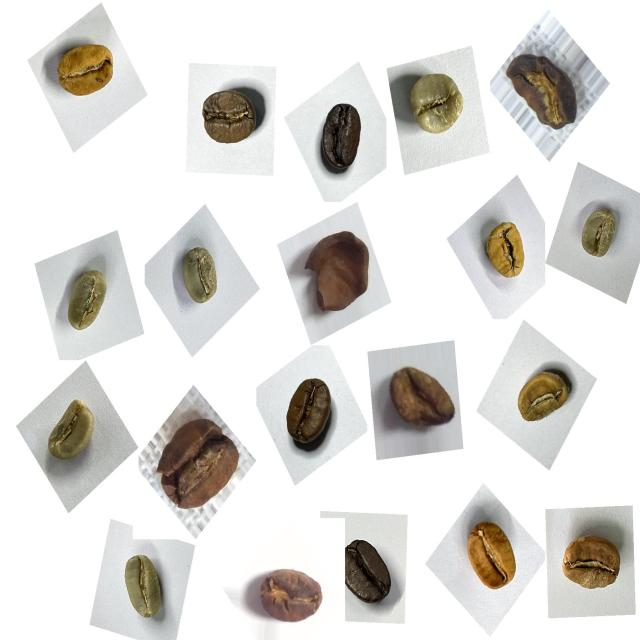bad: (154, 404, 251, 523), (300, 218, 382, 321), (502, 43, 583, 139), (381, 356, 463, 444), (252, 556, 331, 636)
dark: (334, 529, 403, 618), (311, 91, 377, 181)
green: (397, 62, 475, 154), (36, 390, 105, 480), (109, 546, 174, 634), (56, 258, 121, 344), (171, 240, 231, 318), (572, 196, 630, 270)
light: (553, 522, 632, 607), (454, 513, 526, 605), (48, 31, 123, 111), (507, 356, 578, 436), (474, 211, 534, 290)
medium: (276, 368, 344, 458), (193, 78, 269, 158)
